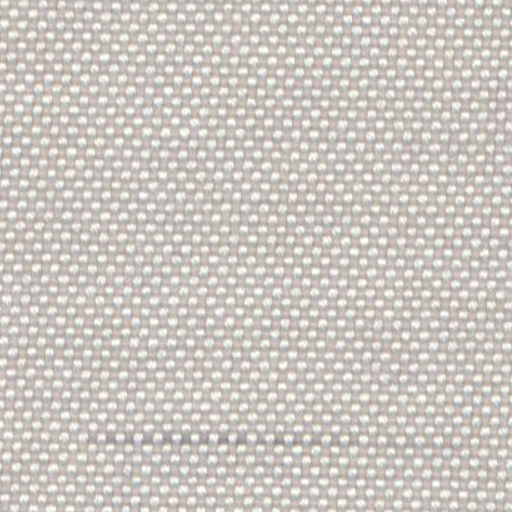WuZi: (88, 427, 360, 450)
